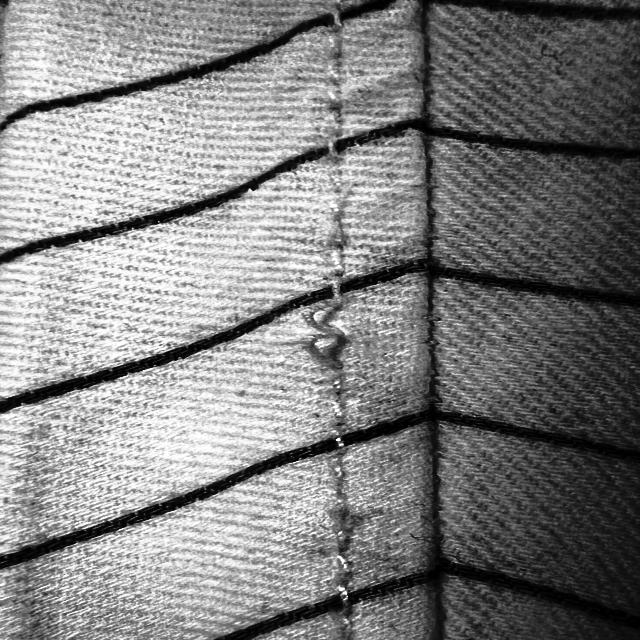Sewing_error: (285, 290, 354, 409)
